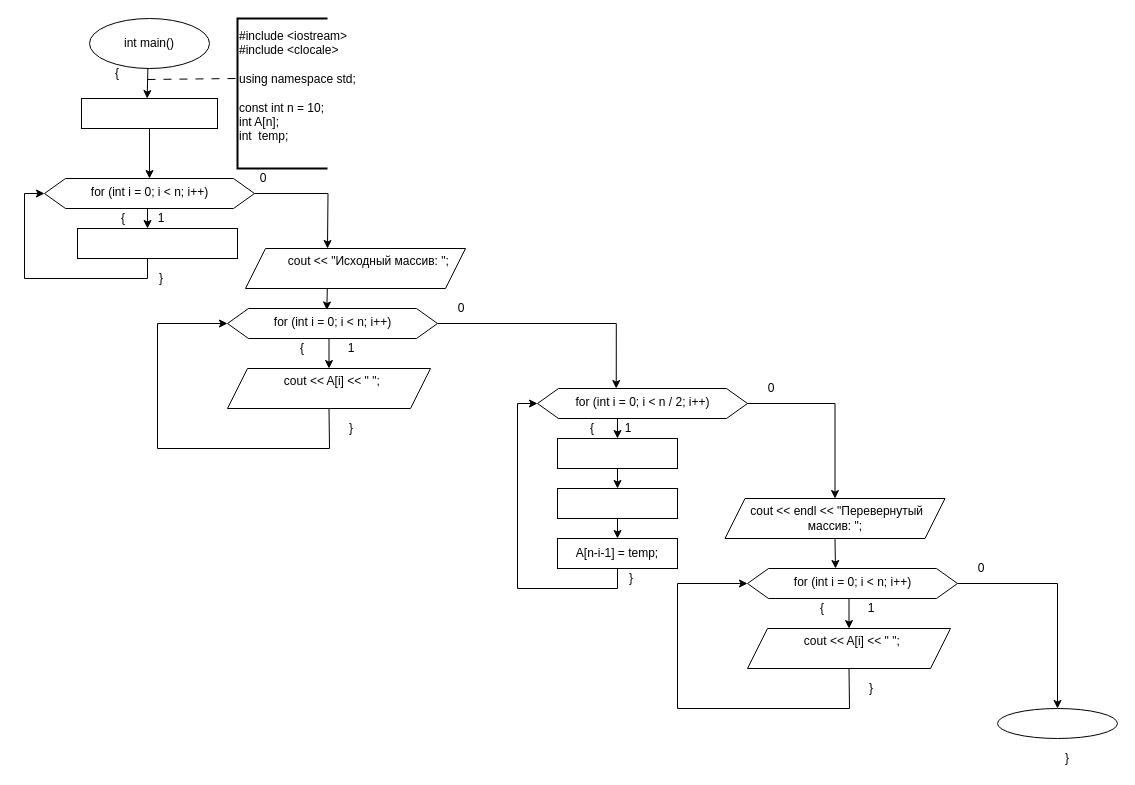
Image size: 1135x785. Some labels were removed from this diagram. Here are the shapes that lost their labels. From the top down, the centre of each, then its label:
point 149,113: setlocale(LC_ALL, "ru");
point 157,243: A[i] = rand () % 100 - 50;
point 617,453: temp = A[i];
point 617,503: A[i] = A[n-i-1];
point 1057,723: return 0;
